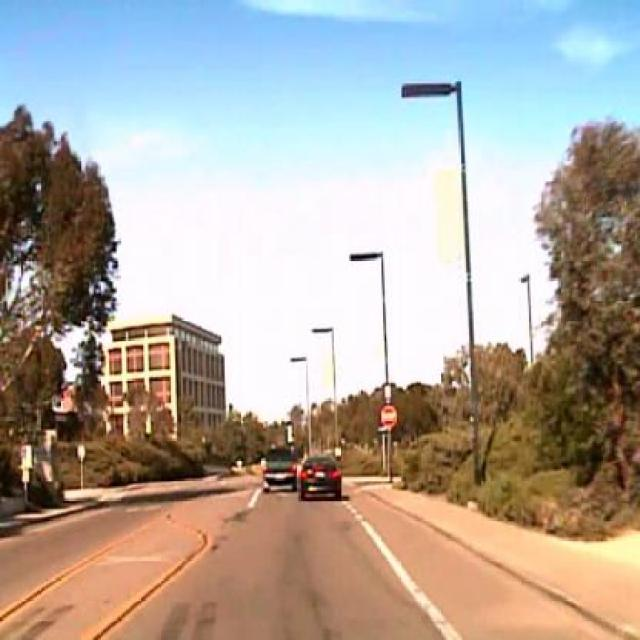stop: (380, 405, 397, 428)
